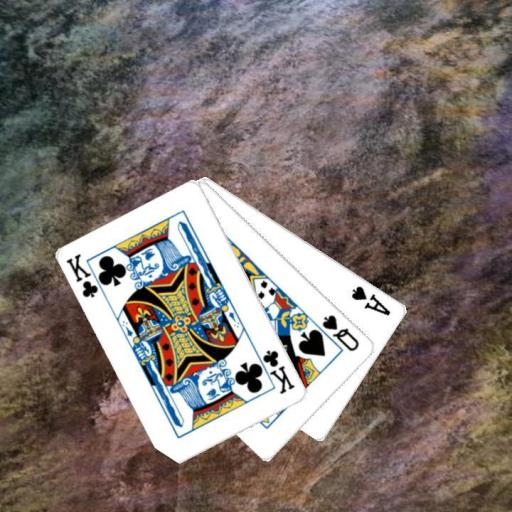AS: (349, 282, 393, 317)
KC: (63, 251, 109, 299), (252, 347, 297, 396)
QS: (320, 312, 362, 353)
